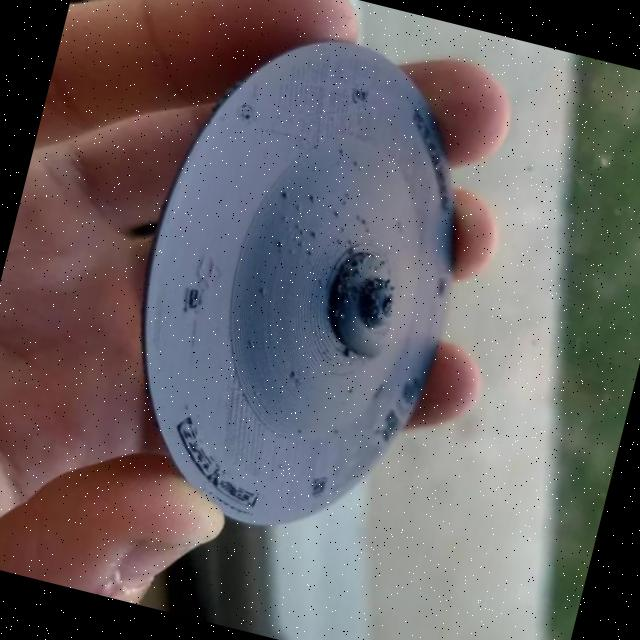blobs: (338, 347, 355, 362), (356, 214, 371, 231), (277, 188, 291, 206), (304, 192, 318, 209), (243, 336, 256, 354), (329, 209, 344, 224), (346, 256, 362, 270), (307, 226, 319, 244), (303, 245, 315, 262), (272, 238, 286, 252), (255, 285, 268, 299), (292, 202, 304, 215), (338, 200, 349, 212), (344, 237, 355, 249), (286, 372, 298, 382), (336, 147, 346, 159), (349, 160, 360, 170)
